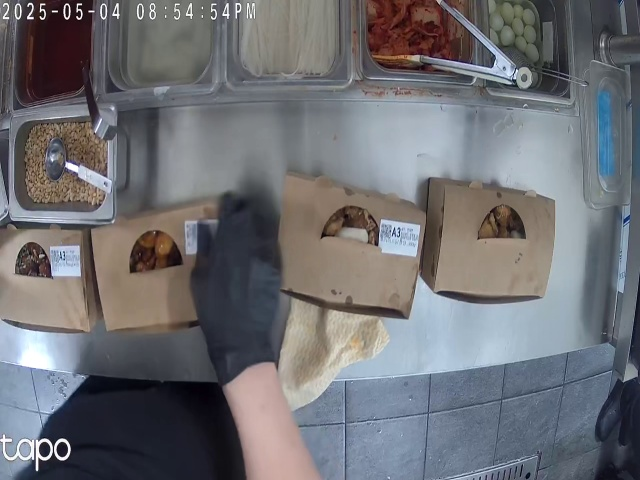closed delivery box: (285, 157, 418, 311), (434, 174, 569, 306), (93, 215, 228, 328), (1, 228, 88, 330)
hand: (199, 195, 285, 365)
